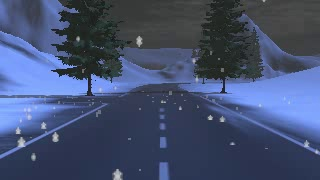Lane: (0, 82, 319, 179)
